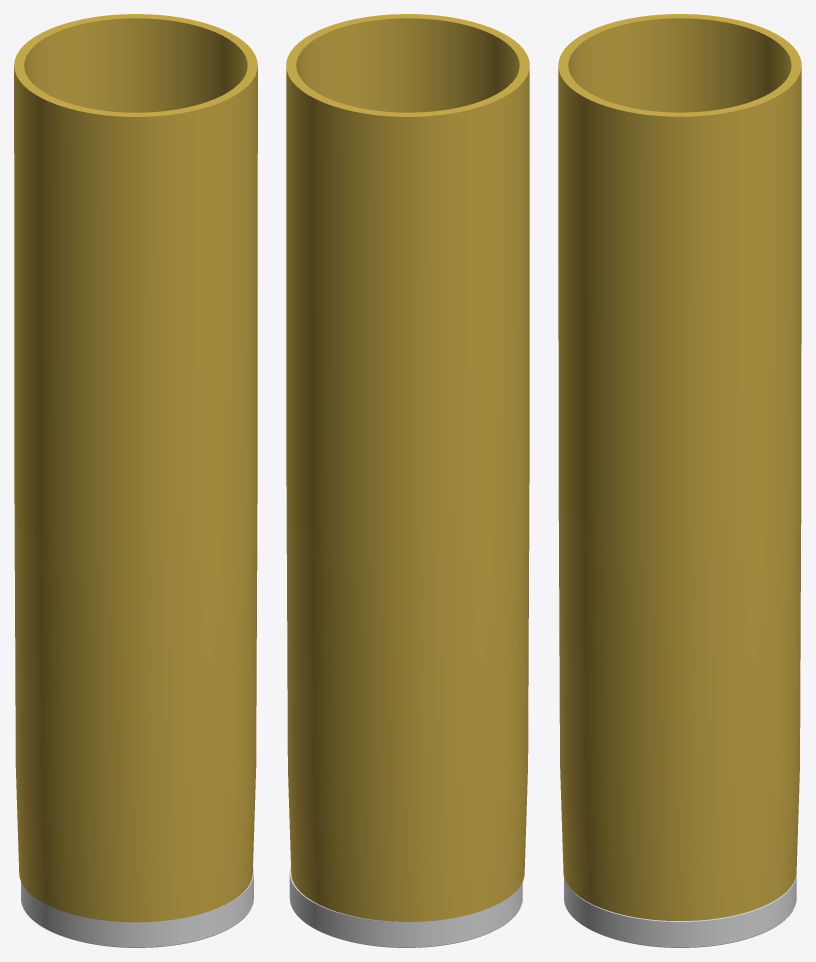
The picture shows the model from 3 angles, left to right: view 1: azimuth 30°, elevation 25°; view 2: azimuth 150°, elevation 25°; view 3: azimuth 270°, elevation 25°; orthographic projection.
Visible parts, largest first — view 1: Circle.001; view 2: Circle.001; view 3: Circle.001.
Part boxes in pixels (x1=…): Circle.001: x1=14, y1=14, x2=257, y2=947; Circle.001: x1=286, y1=14, x2=529, y2=947; Circle.001: x1=558, y1=14, x2=801, y2=947.
Size of the model in its own units: 0.111 by 0.4196 by 0.111.
